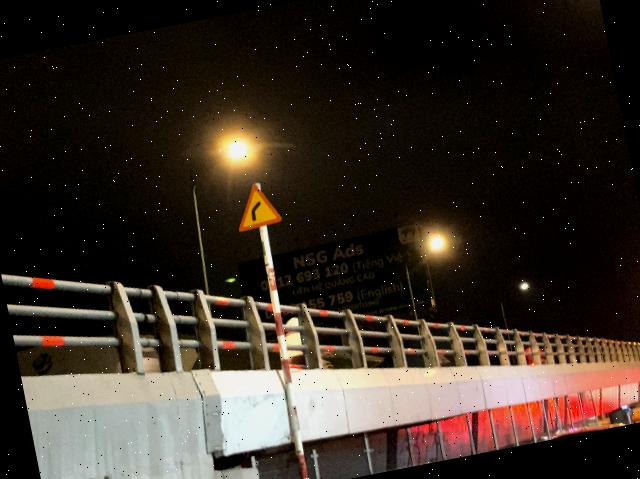cho-ngoat-nguy-hiem-ben-phai: (230, 179, 282, 231)
